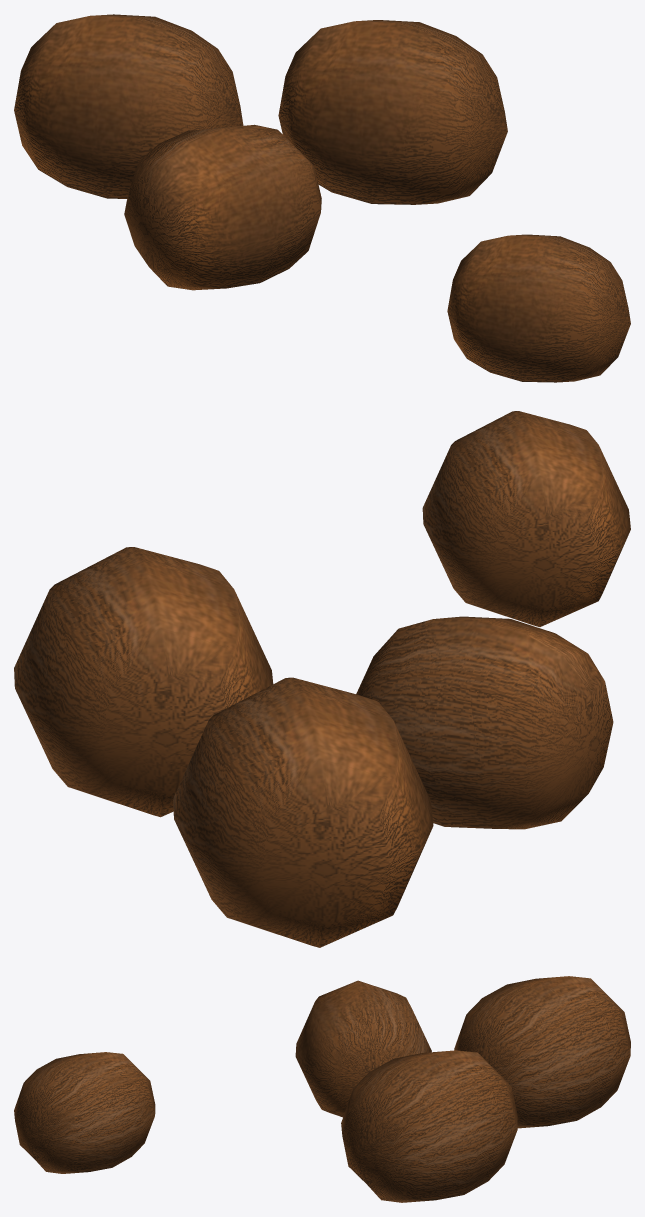
File: Cocos.fbx
The picture shows the model from 3 angles, top to bottom: view 1: azimuth 30°, elevation 25°; view 2: azimuth 150°, elevation 25°; view 3: azimuth 270°, elevation 25°; orthographic projection. The views are drawn at different scales.
Visible parts, largest first — view 1: Cocos_4, Cocos, Cocos_2, Cocos_3; view 2: Cocos, Cocos_4, Cocos_2, Cocos_3; view 3: Cocos_4, Cocos, Cocos_3, Cocos_2.
Part boxes in pixels (x1,y1,x2,y2): Cocos_4: (278,20,507,204); Cocos: (14,14,243,198); Cocos_2: (124,124,321,290); Cocos_3: (447,234,630,382); Cocos: (173,677,433,947); Cocos_4: (14,547,273,817); Cocos_2: (356,616,613,829); Cocos_3: (422,411,630,626); Cocos_4: (341,1050,517,1202); Cocos: (454,976,630,1128); Cocos_3: (14,1052,155,1173); Cocos_2: (295,980,431,1117).
Size of the model in its own units: 53.75 by 23.55 by 92.73.
